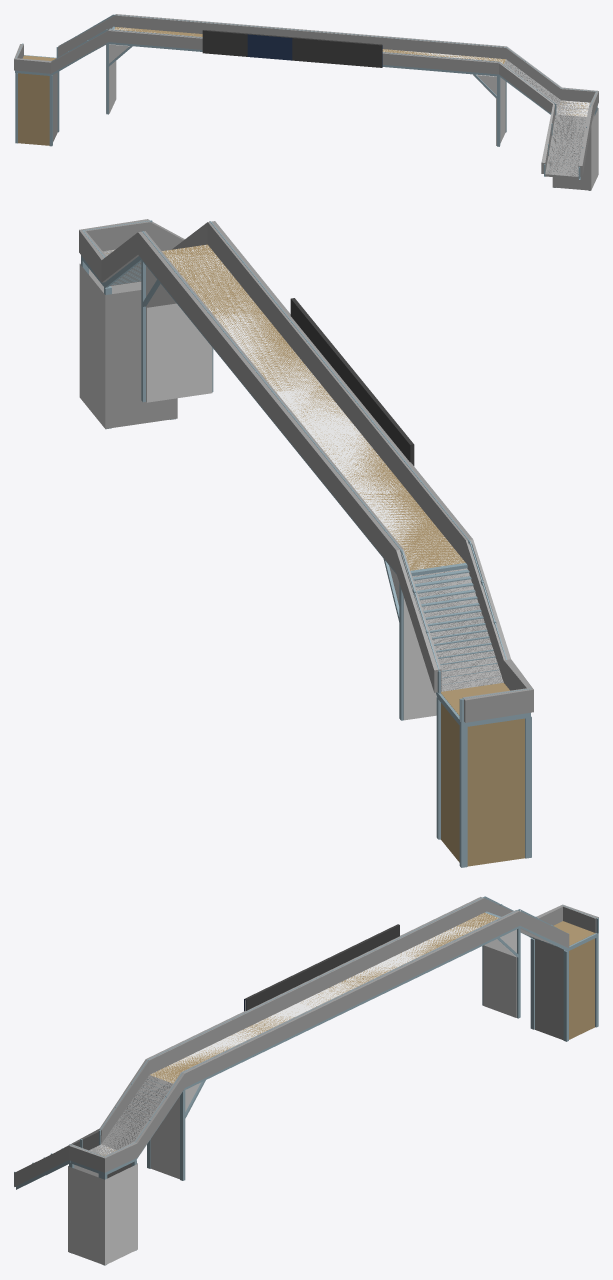
File: trackbridge_sector6.dae
The picture shows the model from 3 angles, top to bottom: view 1: azimuth 30°, elevation 25°; view 2: azimuth 150°, elevation 25°; view 3: azimuth 270°, elevation 25°; orthographic projection. The views are drawn at different scales.
Visible parts, largest first — view 1: Colmesh-1, trackbridge_sector6_a400, trackbridge_sector6_a300; view 2: Colmesh-1, trackbridge_sector6_a400, trackbridge_sector6_a300; view 3: Colmesh-1, trackbridge_sector6_a400, trackbridge_sector6_a300.
Boxes of the visible parts, <box> form: Colmesh-1: <box>14,14,598,190</box>; trackbridge_sector6_a400: <box>15,14,597,190</box>; trackbridge_sector6_a300: <box>25,28,589,176</box>; Colmesh-1: <box>79,219,533,866</box>; trackbridge_sector6_a400: <box>81,220,531,867</box>; trackbridge_sector6_a300: <box>106,246,506,714</box>; Colmesh-1: <box>14,897,598,1265</box>; trackbridge_sector6_a400: <box>14,896,598,1265</box>; trackbridge_sector6_a300: <box>101,915,594,1156</box>.
Bounding box in the file's own units: 37.71 × 36.72 × 11.52.
